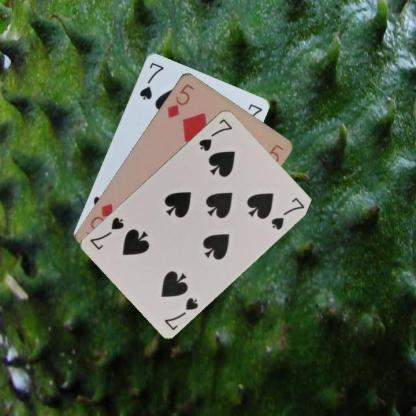5d: (165, 80, 196, 119)
7s: (162, 294, 200, 331), (196, 116, 234, 152), (136, 60, 166, 101)
